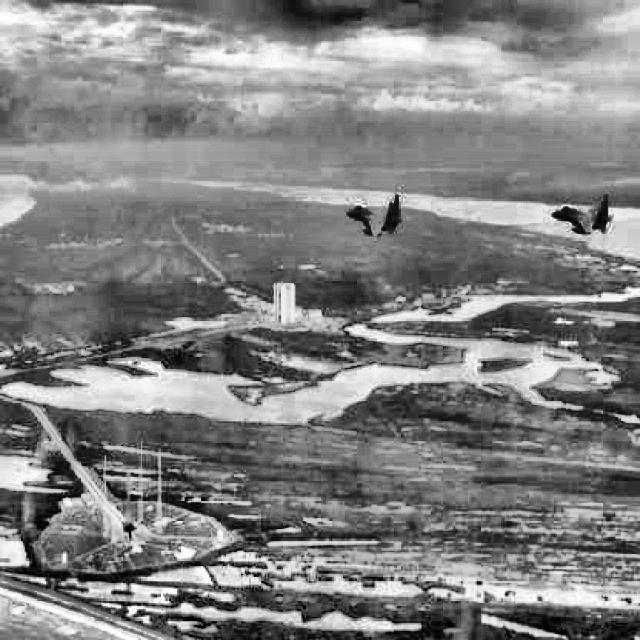F15: (345, 194, 407, 240), (552, 194, 614, 235)
